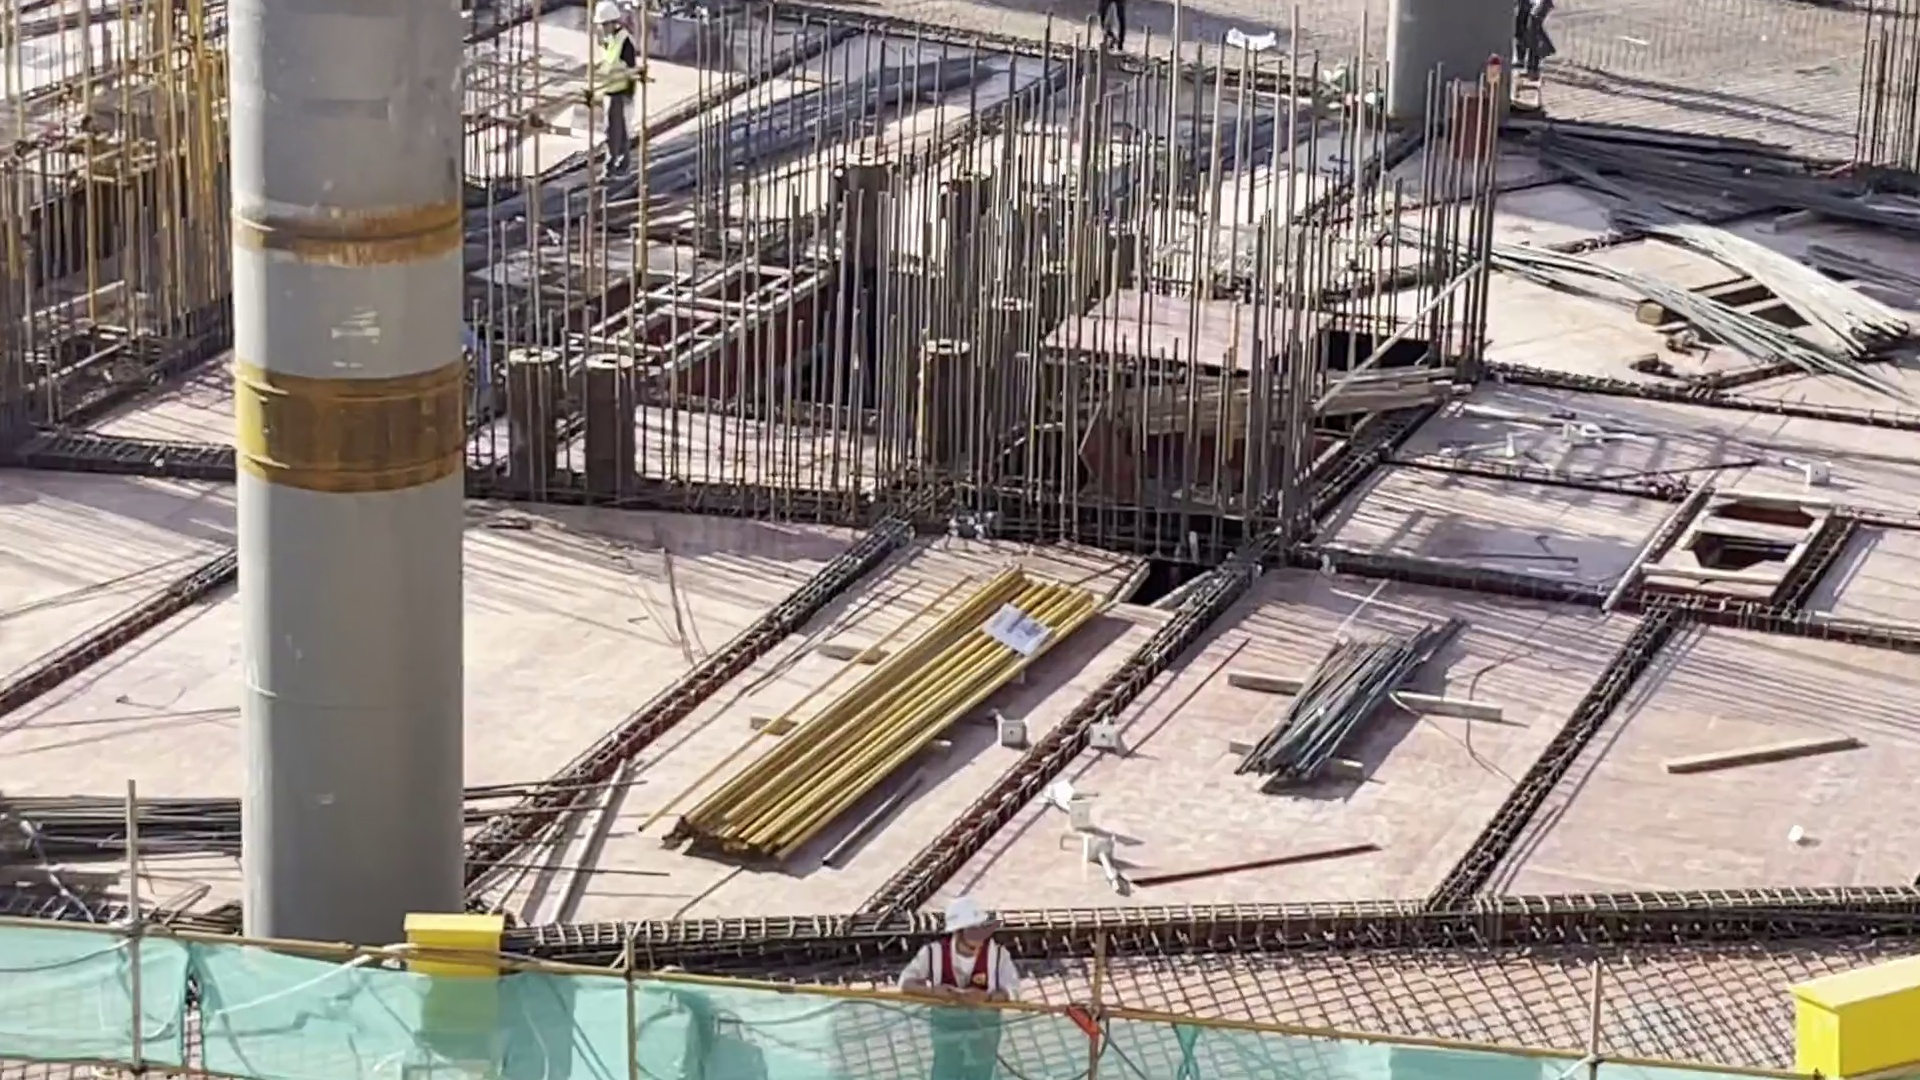ebox: (398, 892, 571, 1079), (1781, 957, 1920, 1070)
helmet: (944, 894, 994, 952)
person: (916, 891, 1011, 1063), (602, 1, 654, 181), (1523, 1, 1559, 90), (1105, 1, 1138, 41)
rebar: (488, 33, 999, 248), (1509, 145, 1894, 406), (1, 786, 248, 873), (1272, 638, 1423, 771)
vest: (936, 944, 996, 1034), (611, 36, 648, 94)
